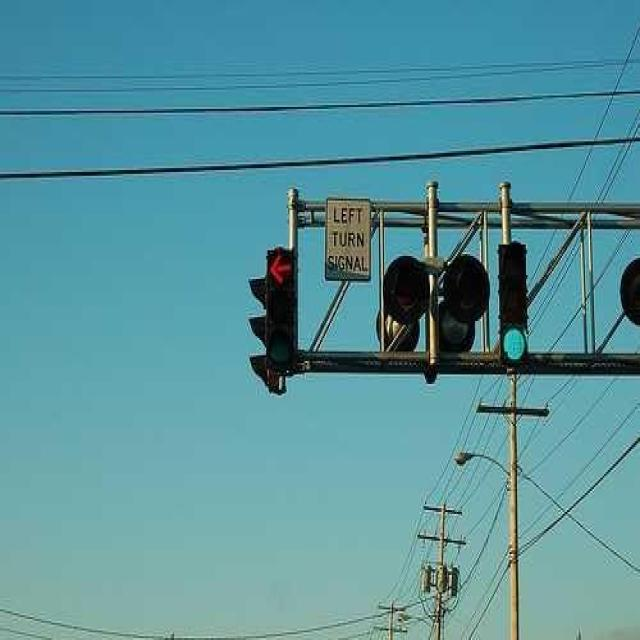Traffic Light -Green-: (496, 238, 533, 369)
Traffic Light -Red-: (264, 242, 302, 368)
